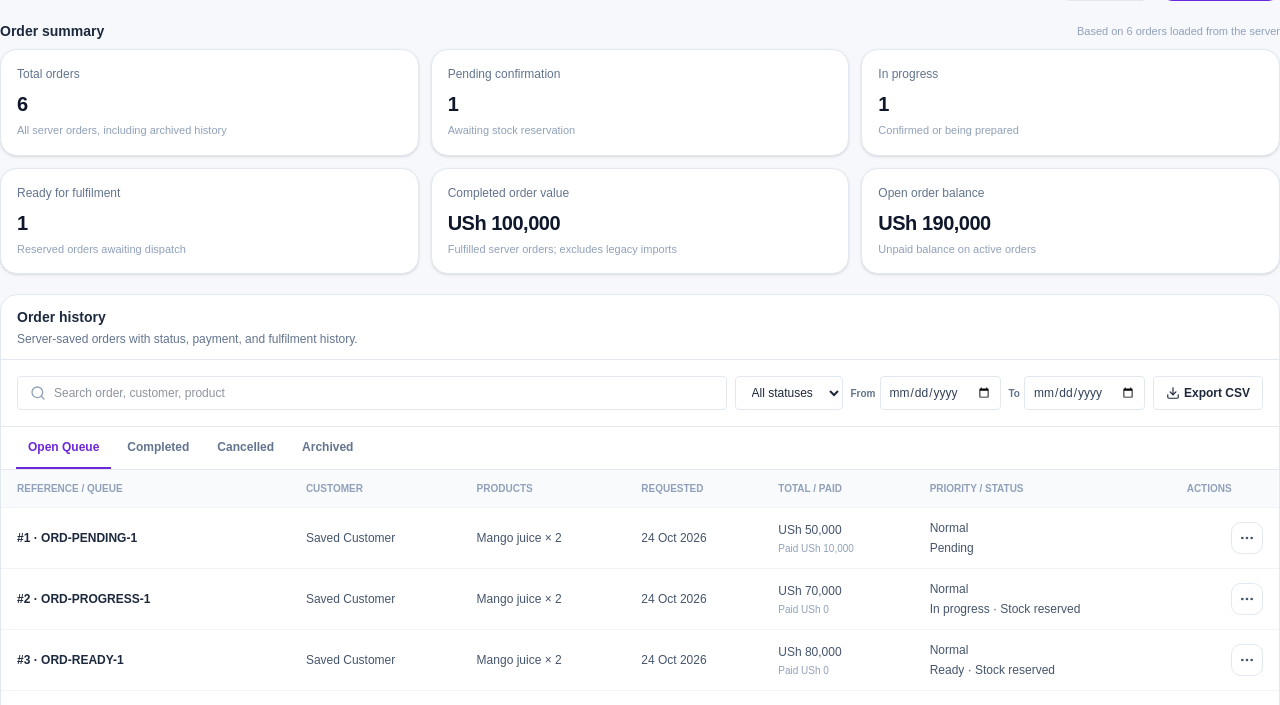
it: orders-management › opens order actions from the three-dot menu and closes it on outside click
Later steps or results of the test are not shown.
Step 1. Click the button named "Actions for ORD-PENDING-1" → {"x": 1247, "y": 538}, box [1231,522,1263,554]
(page scrolled)
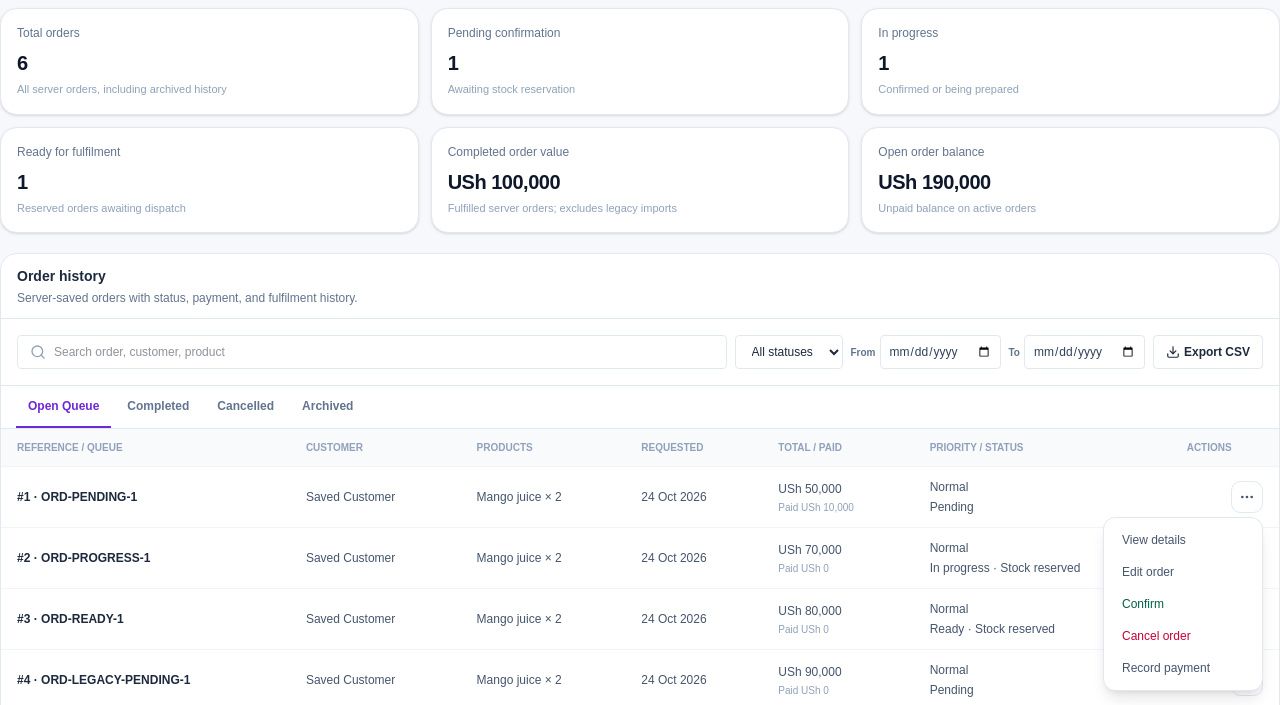
Now the menu named "Actions for ORD-PENDING-1" is shown, box [1103,517,1263,691]
Now the menu item "Edit order" is shown, box [1110,556,1256,588]
Now the menu item "Confirm" is shown, box [1110,588,1256,620]
